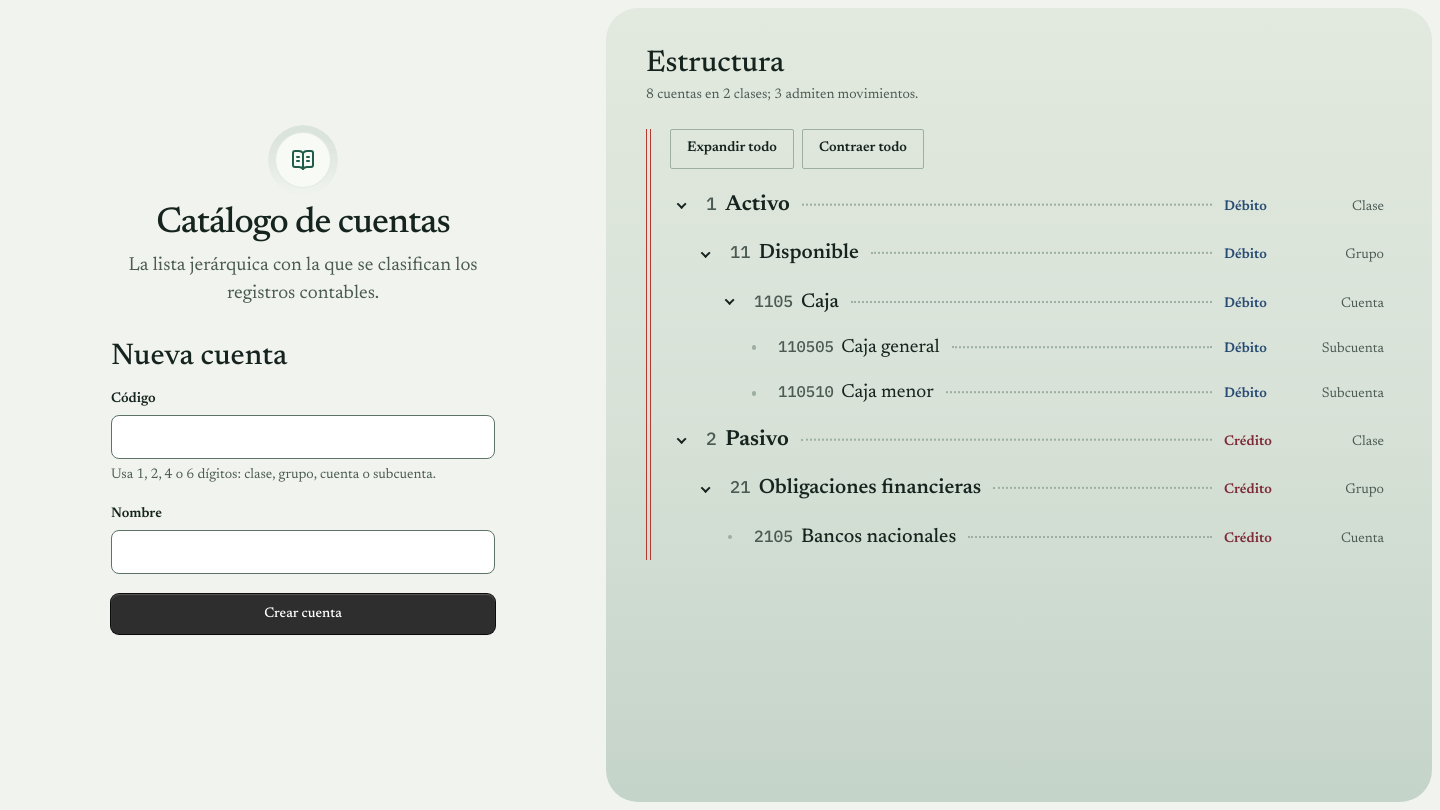
Scenario: AccountsPage › deleting › keeps the dialog open and explains why when the account has children
The image size is (1440, 810).
Check: the list is shown, box [670,181,1392,560]
Click the text "Caja" at point(820, 302), box [801,286,839,317]
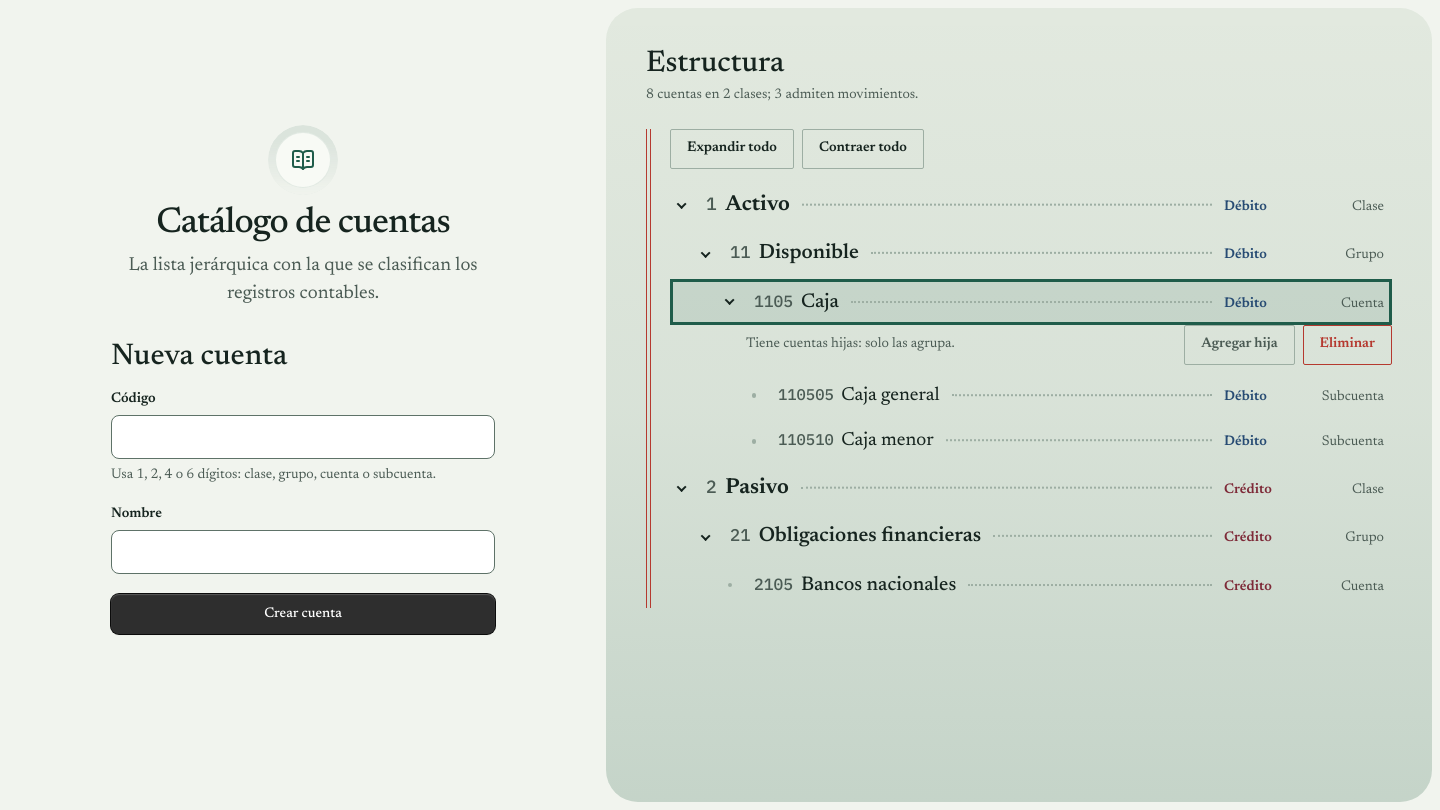
Click the button "Eliminar" at point(1347, 345), box [1303,325,1392,365]
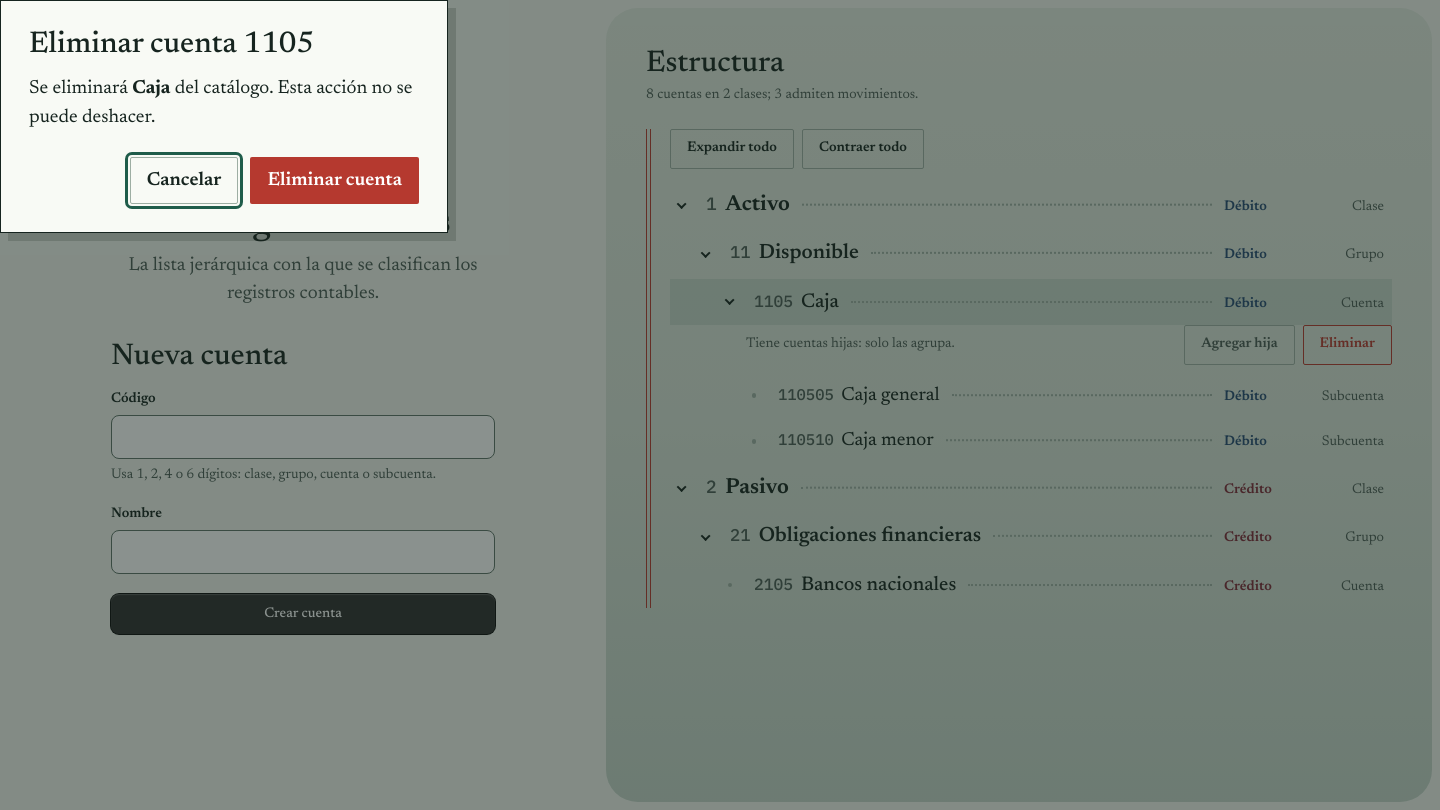
Click the button "Eliminar cuenta" at point(335, 180), box [250,156,419,204]
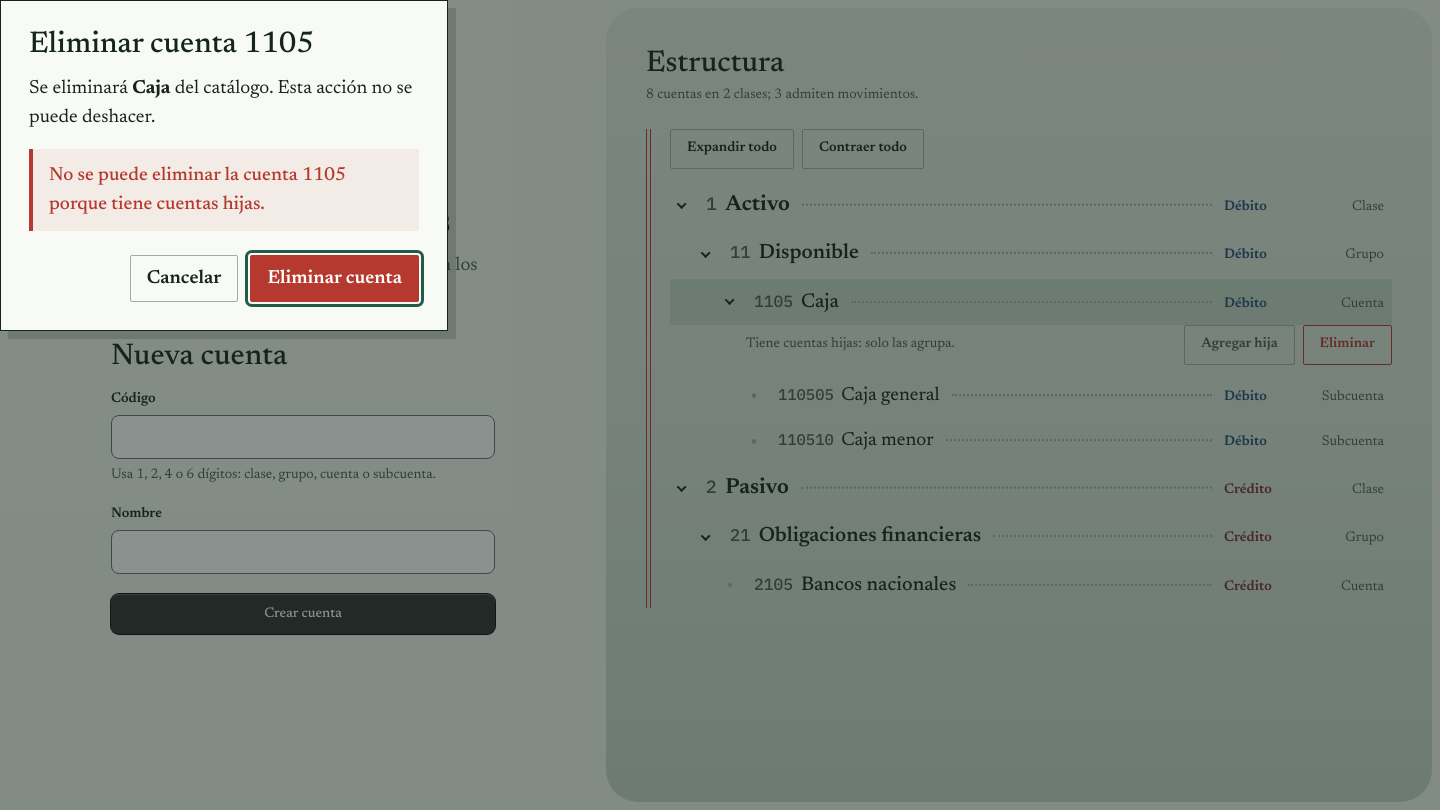
Check: the list item "1105 Caja" is shown, box [670,278,1392,464]
Check: the dialog is shown, box [0,0,448,331]
Check: the message reads "No se puede eliminar la cuenta 1105 porque tiene cuentas hijas.", box [49,166,346,214]
Click the button "Cancelar" at point(184, 279), box [130,255,238,302]
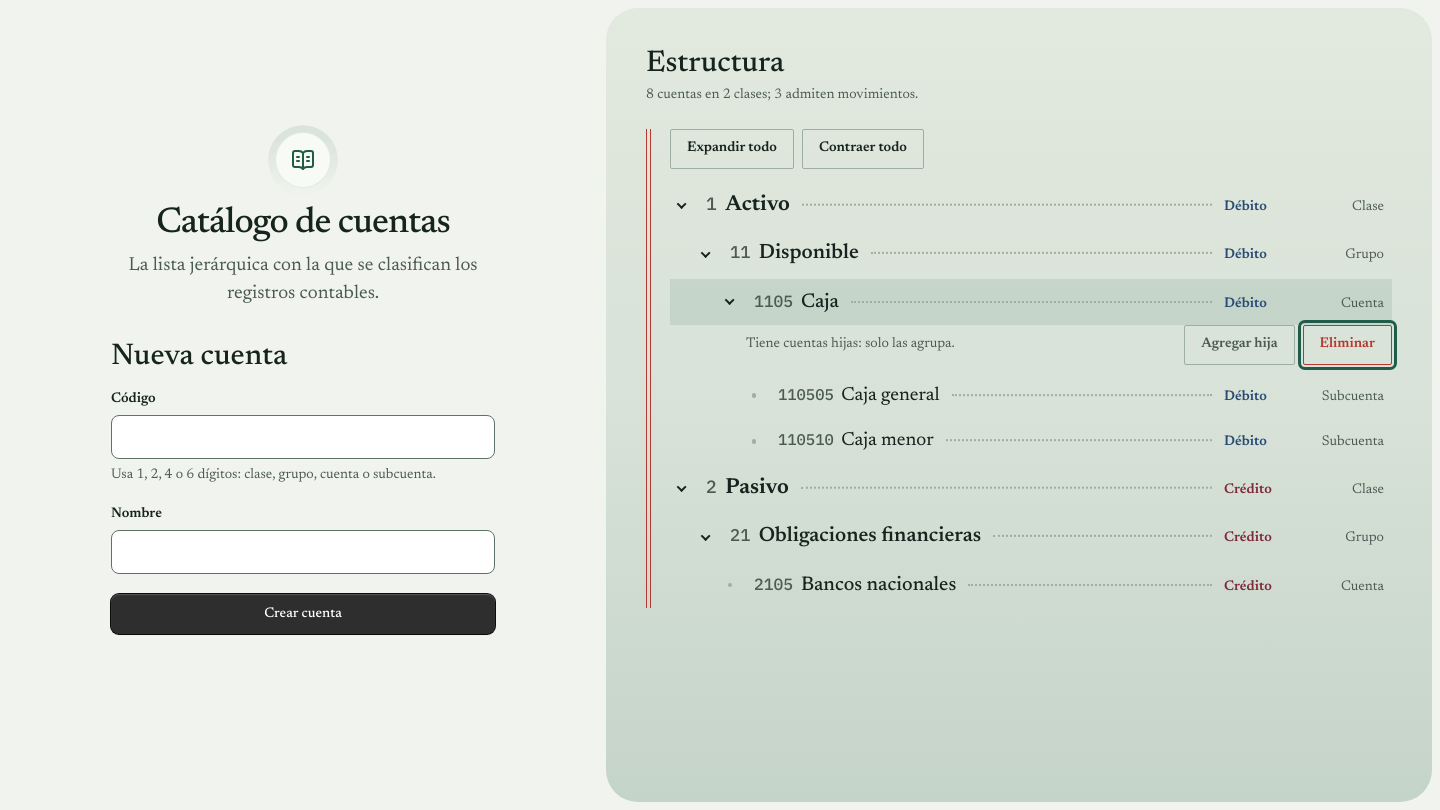
Check: the dialog is gone
